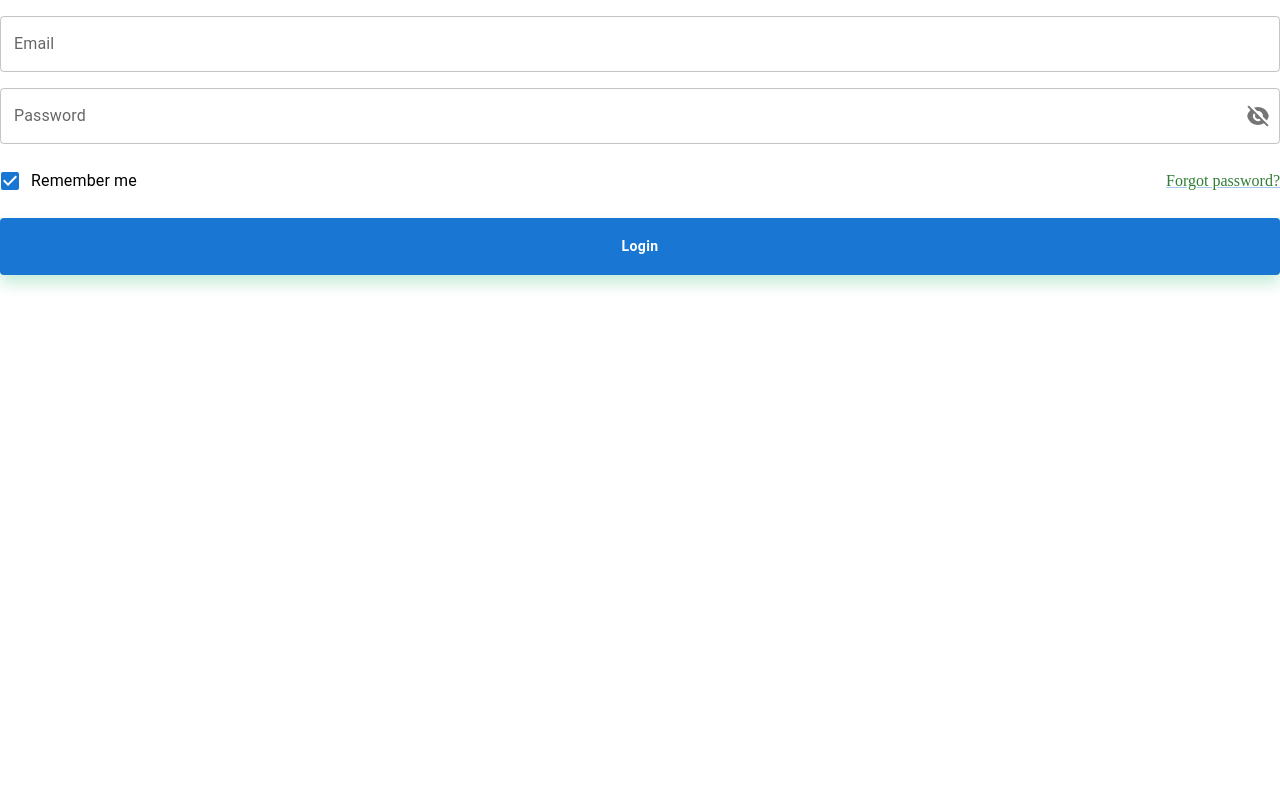
Test: FormLogin › renders email dialog when steps = 1
The width and height of the screenshot is (1280, 800).
Step 1. Click the link "Forgot password?" → (1223, 181), box [1166,172,1279,190]
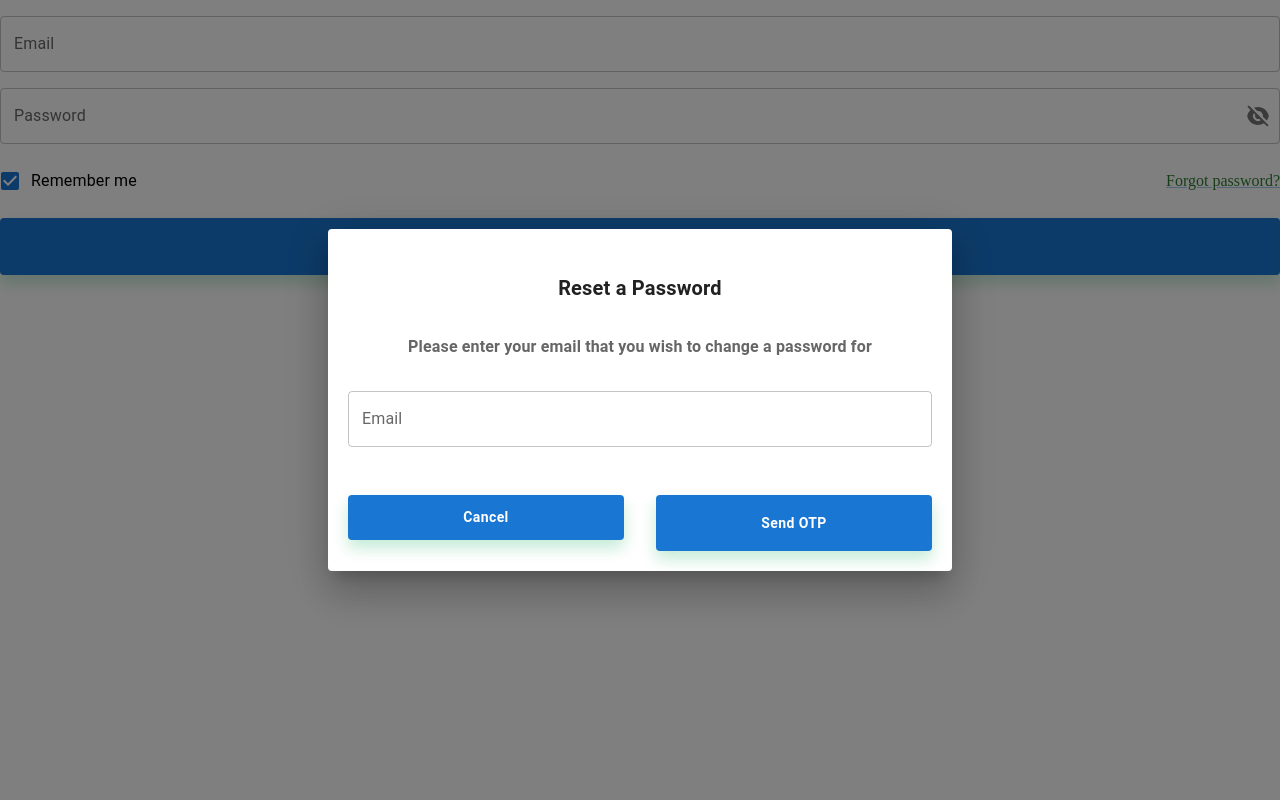
Expected: the text "Reset a Password" is shown, [558,276,722,300]
Expected: the text "Please enter your email that you wish to change a password for" is shown, [408,337,872,356]
Expected: the button "Cancel" is shown, [348,495,624,540]
